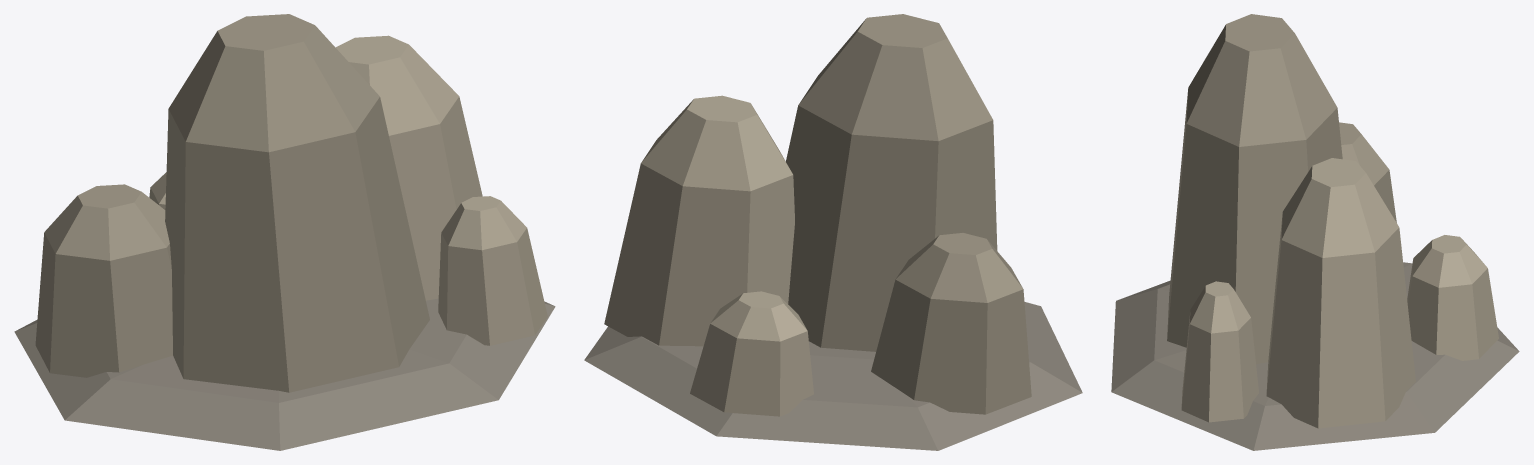
Rendered from Dungeon_RubbleMound.fbx.
3 renders of one model, left to right at view 1: azimuth 30°, elevation 25°; view 2: azimuth 150°, elevation 25°; view 3: azimuth 270°, elevation 25°, orthographic. The views are drawn at different scales.
Parts seen in each view (by area): view 1: Dungeon_RubbleMound; view 2: Dungeon_RubbleMound; view 3: Dungeon_RubbleMound.
Boxes of the visible parts, x1=… form: Dungeon_RubbleMound: x1=14, y1=14, x2=555, y2=450; Dungeon_RubbleMound: x1=584, y1=14, x2=1082, y2=450; Dungeon_RubbleMound: x1=1111, y1=14, x2=1519, y2=450.
Size of the model in its own units: 4.91 by 3.31 by 4.13.
